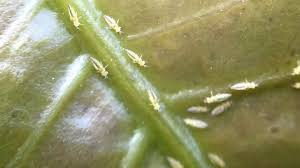Thrips: (177, 69, 261, 131), (97, 8, 142, 39), (83, 52, 116, 85), (121, 47, 157, 66), (146, 88, 165, 113)
